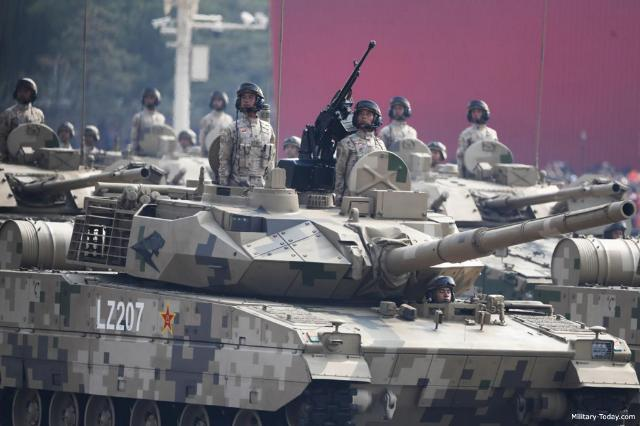other: (224, 81, 274, 182), (338, 99, 378, 176), (4, 80, 44, 129), (134, 85, 168, 140), (462, 96, 493, 151), (384, 97, 418, 138), (428, 268, 459, 312), (204, 88, 226, 131), (78, 124, 100, 156), (428, 142, 450, 163), (57, 121, 73, 144)
tank: (0, 200, 502, 409), (409, 156, 571, 216), (0, 161, 92, 213)
